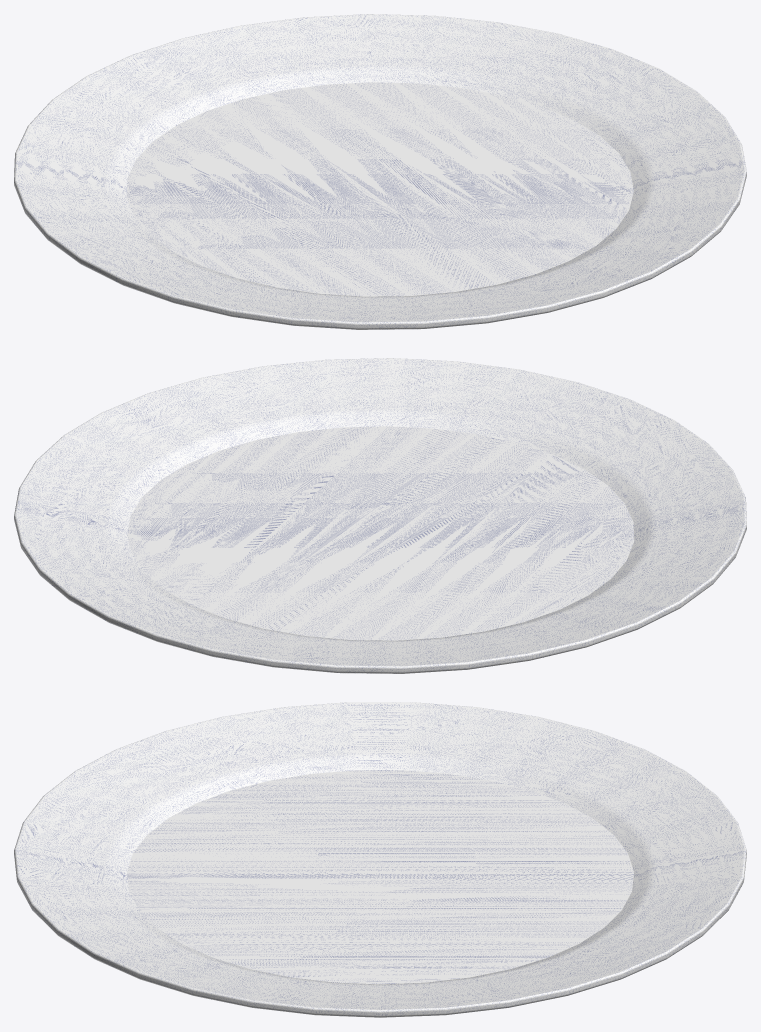
File: plate.dae
3 views of the same model, one above another, from view 1: azimuth 30°, elevation 25°; view 2: azimuth 150°, elevation 25°; view 3: azimuth 270°, elevation 25° (orthographic).
Parts seen in each view (by area): view 1: group_0; view 2: group_0; view 3: group_0.
Boxes of the visible parts, x1,y1,x2,y2 form: group_0: (14,14,746,329); group_0: (14,358,746,673); group_0: (14,702,746,1017).
Bounding box in the file's own units: 75.08 × 75.15 × 5.21.
